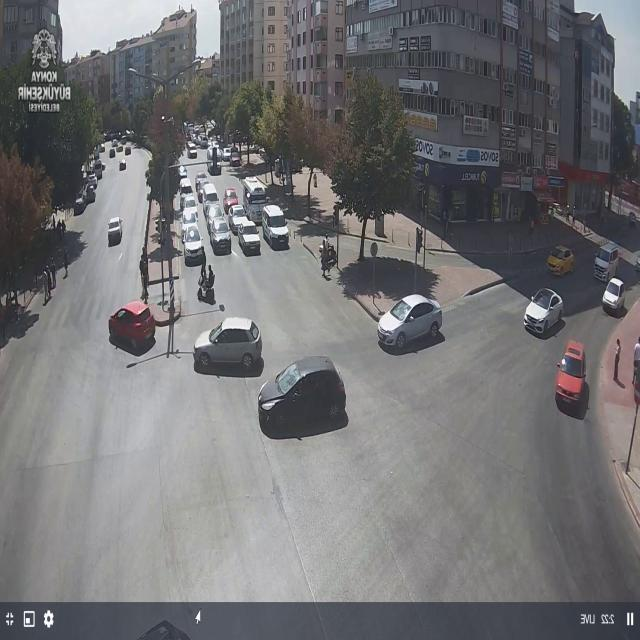Bus: (244, 176, 268, 221)
Car: (259, 356, 348, 441), (192, 315, 264, 375), (376, 295, 446, 352), (552, 341, 592, 416), (106, 301, 154, 357), (522, 288, 568, 339), (262, 205, 291, 249), (591, 244, 622, 281), (544, 246, 576, 278), (207, 217, 232, 255), (182, 228, 205, 268), (237, 220, 260, 258), (602, 279, 625, 315), (105, 217, 123, 246), (228, 205, 248, 229), (181, 208, 197, 236), (224, 188, 238, 214), (183, 196, 200, 212), (74, 197, 87, 216), (84, 185, 96, 202), (87, 173, 98, 189), (118, 158, 127, 176), (188, 148, 200, 160), (110, 149, 116, 161), (126, 146, 131, 157)
Truck: (202, 184, 221, 218)
Van: (181, 177, 193, 198)
